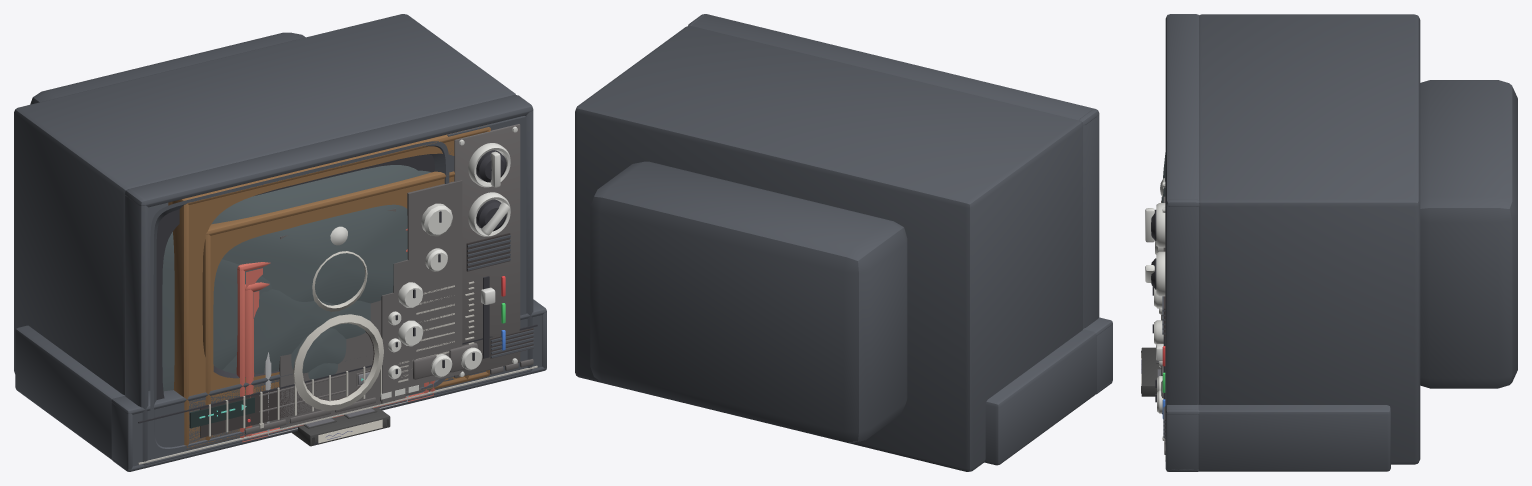
File: tvs.glb
3 views of the same model, side by side, from view 1: azimuth 30°, elevation 25°; view 2: azimuth 150°, elevation 25°; view 3: azimuth 270°, elevation 25° (orthographic). The views are drawn at different scales.
Visible parts, largest first — view 1: TvHero, TvConsole, Deck, TvWood, Speaker, TvPort, TvBox, TvMon, Tape, HeroKnobB, HeroKnobA; view 2: TvHero, Deck; view 3: TvHero, Deck, Tape, HeroKnobA.
Part boxes in pixels (x1,y1,x2,y2): TvHero: (14, 14, 533, 465); TvConsole: (168, 126, 490, 449); Deck: (15, 299, 546, 471); TvWood: (202, 171, 469, 441); Speaker: (279, 208, 395, 428); TvPort: (245, 249, 428, 438); TvBox: (264, 292, 408, 435); TvMon: (236, 228, 435, 442); Tape: (292, 407, 390, 446); HeroKnobB: (476, 199, 509, 235); HeroKnobA: (476, 150, 506, 187); TvHero: (575, 14, 1099, 471); Deck: (984, 317, 1112, 465); TvHero: (1156, 14, 1517, 464); Deck: (1161, 365, 1390, 471); Tape: (1141, 347, 1161, 396); HeroKnobA: (1145, 208, 1156, 242).
Bounding box in the file's own units: 0.98 × 0.6125 × 0.7725.
